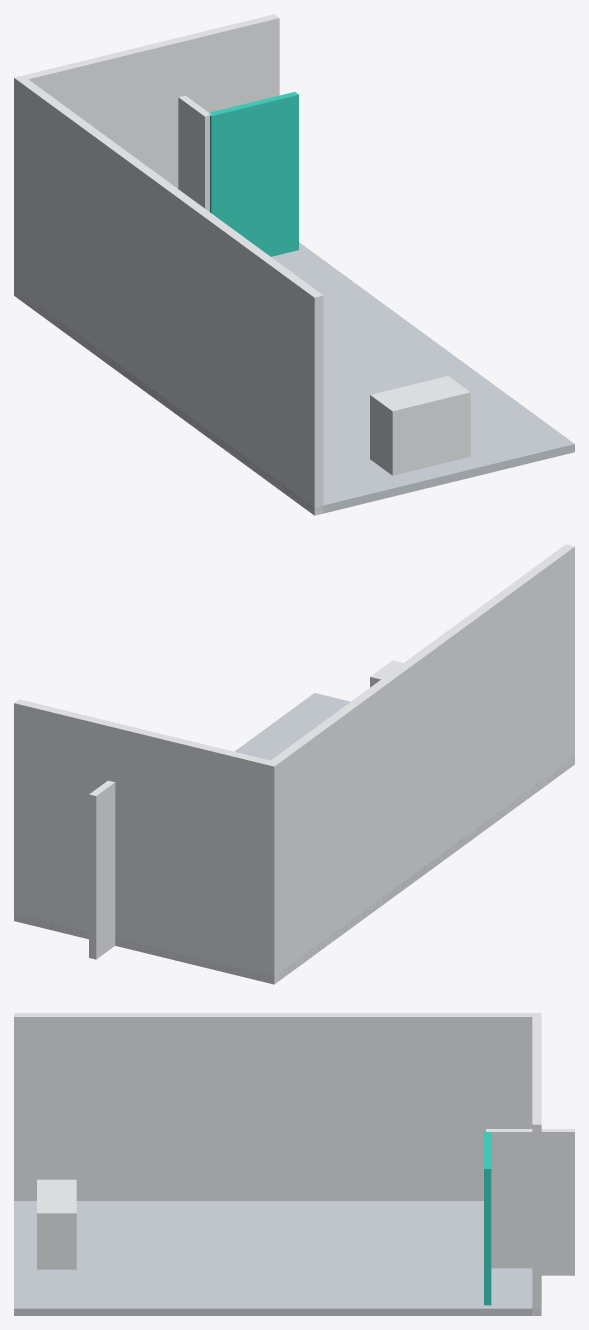
3 renders of one model, top to bottom at view 1: azimuth 30°, elevation 25°; view 2: azimuth 150°, elevation 25°; view 3: azimuth 270°, elevation 25°, orthographic. The views are drawn at different scales.
Visible parts, largest first — view 1: Exhibition Booth Concept; view 2: Exhibition Booth Concept; view 3: Exhibition Booth Concept.
Part boxes in pixels (box(x1,y1,x2,y2)): Exhibition Booth Concept: box(14, 14, 574, 515); Exhibition Booth Concept: box(14, 544, 574, 984); Exhibition Booth Concept: box(14, 1013, 574, 1315).
Size of the model in its own units: 4 by 3.2 by 8.51.
